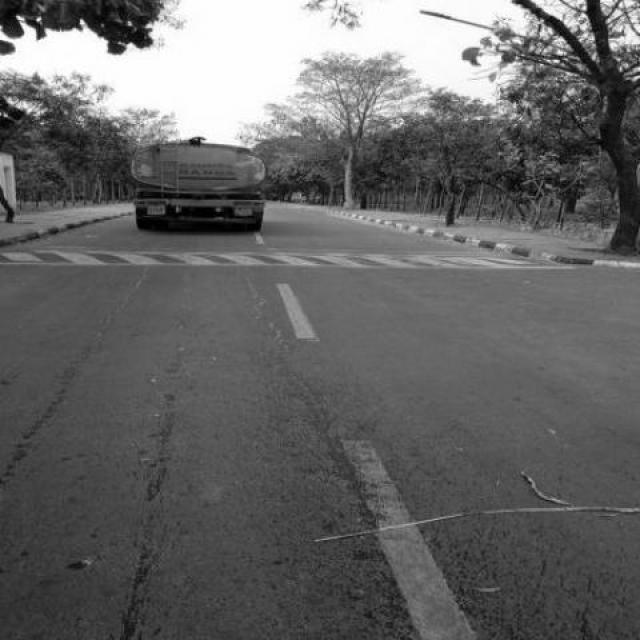Speed Bump: (0, 247, 551, 270)
